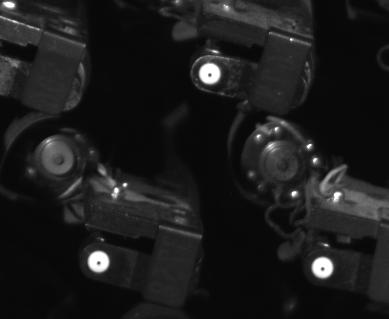fiber: (83, 246, 119, 278), (193, 58, 227, 90), (306, 254, 338, 283)
